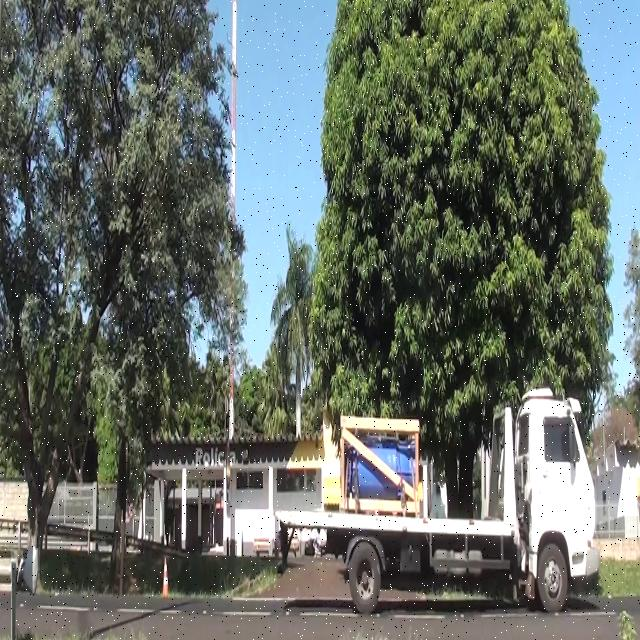-axle: (349, 542, 381, 614), (536, 544, 568, 612)
